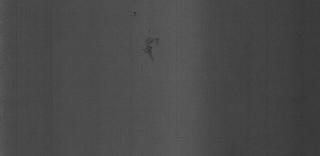water spot: (138, 30, 170, 66)
